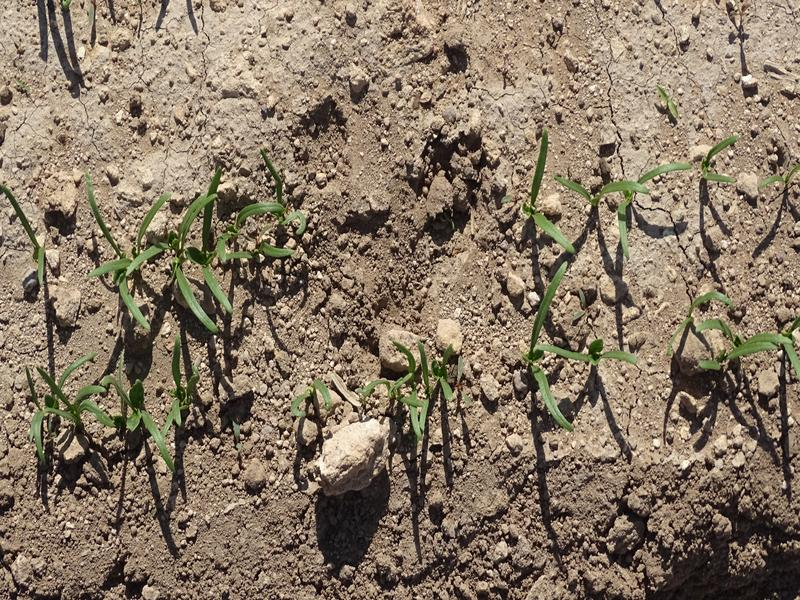Espinaca: (98, 174, 300, 329), (517, 148, 744, 253), (23, 361, 199, 468), (517, 263, 635, 421), (674, 285, 797, 391), (286, 358, 452, 430)
